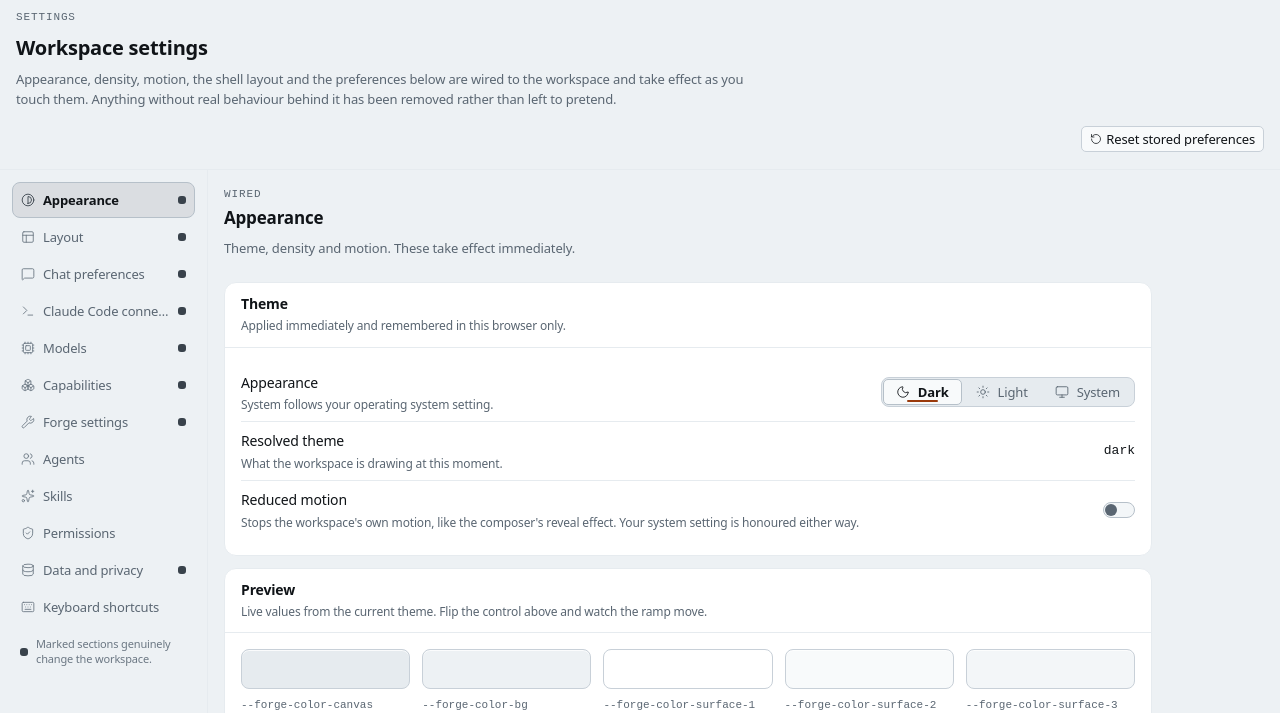
Test case: Settings ▸ Forge settings (wp12 GET /api/config + WP-A POST /api/config + WP-S2 redesign) › WP-S2: groups settings by topic instead of the tool's own core/when-needed/advanced buckets
Click the text "Forge settings" at (86, 422), box [43,413,128,431]
(page scrolled)
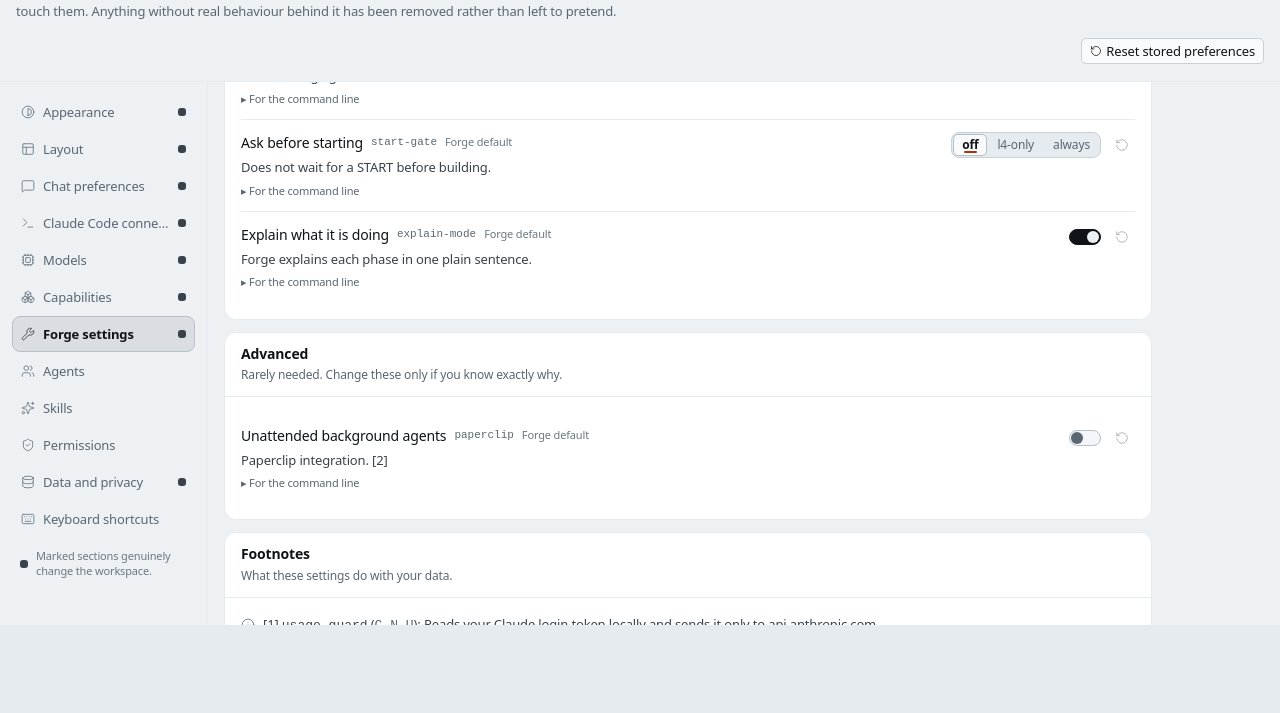
Expected: the heading "Advanced" is shown, [241,344,308,362]
